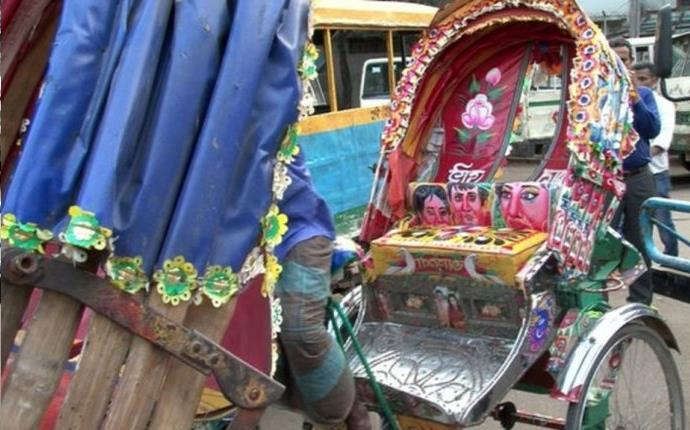Rickshaw: (321, 2, 683, 426), (0, 0, 308, 426)
